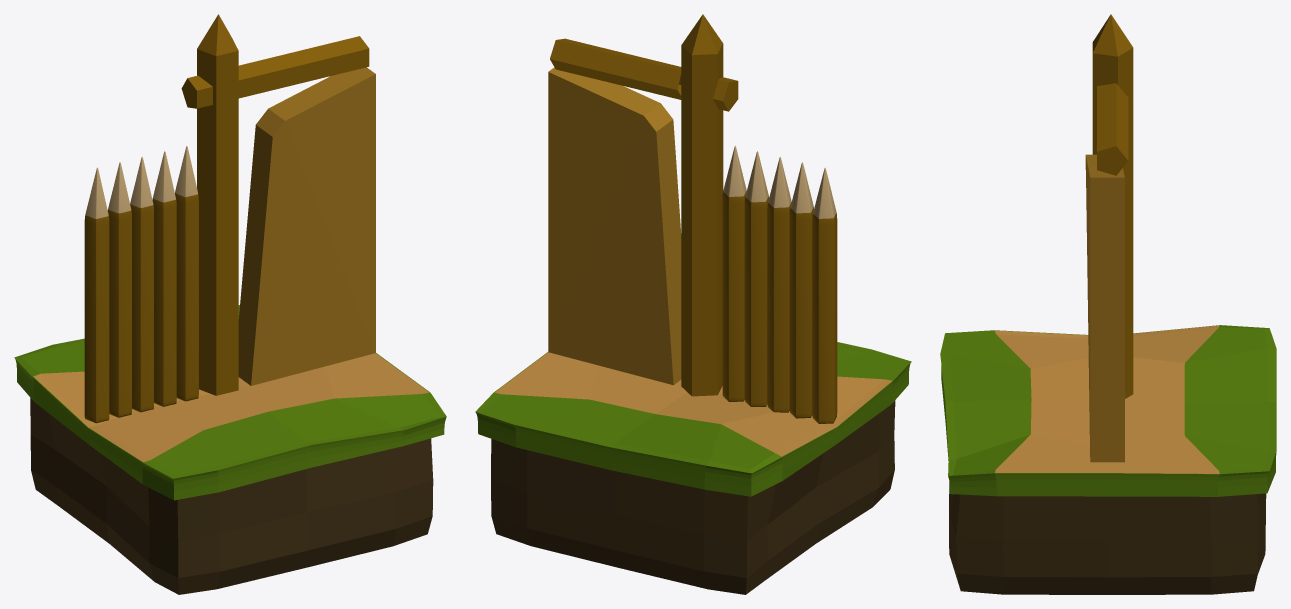
Rendered from WallTile_GateWood.fbx.
The picture shows the model from 3 angles, left to right: view 1: azimuth 30°, elevation 25°; view 2: azimuth 150°, elevation 25°; view 3: azimuth 270°, elevation 25°; orthographic projection. The views are drawn at different scales.
Visible parts, largest first — view 1: DefaultGreenTile.009, Logs, Door; view 2: DefaultGreenTile.009, Logs, Door; view 3: DefaultGreenTile.009, Door, Logs.
Boxes of the visible parts, bbox=[...] form: DefaultGreenTile.009: bbox=[14, 305, 446, 594]; Logs: bbox=[84, 14, 369, 423]; Door: bbox=[238, 67, 375, 385]; DefaultGreenTile.009: bbox=[475, 342, 911, 594]; Logs: bbox=[550, 14, 837, 423]; Door: bbox=[548, 67, 681, 385]; DefaultGreenTile.009: bbox=[940, 325, 1276, 594]; Door: bbox=[1085, 154, 1124, 462]; Logs: bbox=[1092, 14, 1133, 398].
Size of the model in its own units: 19.55 by 19.42 by 32.89.
